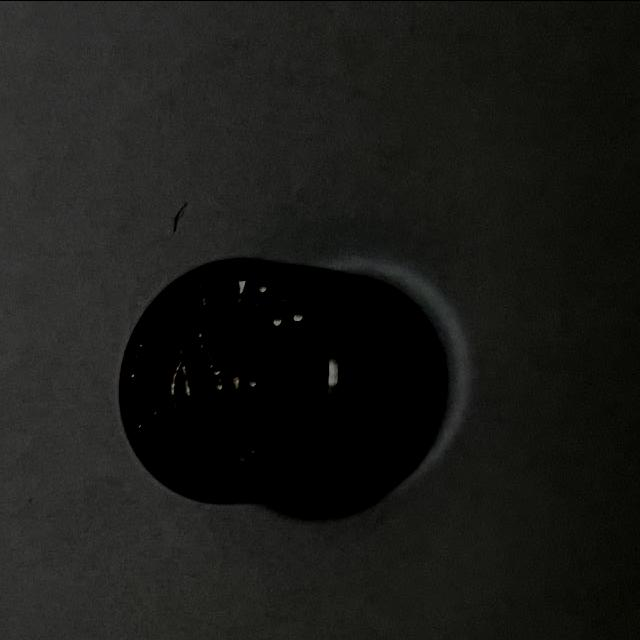COIN: (118, 256, 432, 505)
